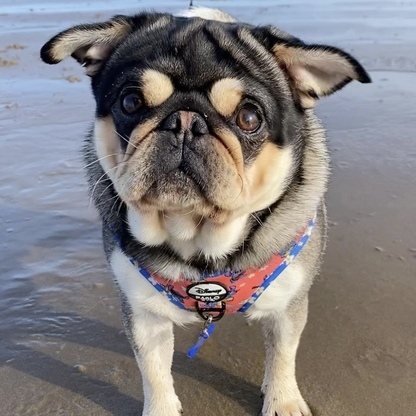Pug: (36, 2, 375, 416)
